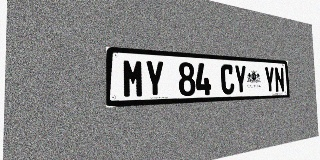4: (195, 63, 211, 95)
8: (178, 62, 195, 96)
C: (220, 64, 234, 95)
M: (122, 59, 144, 98)
N: (274, 67, 285, 92)
Y: (145, 60, 165, 97), (234, 65, 247, 94), (264, 66, 275, 93)
